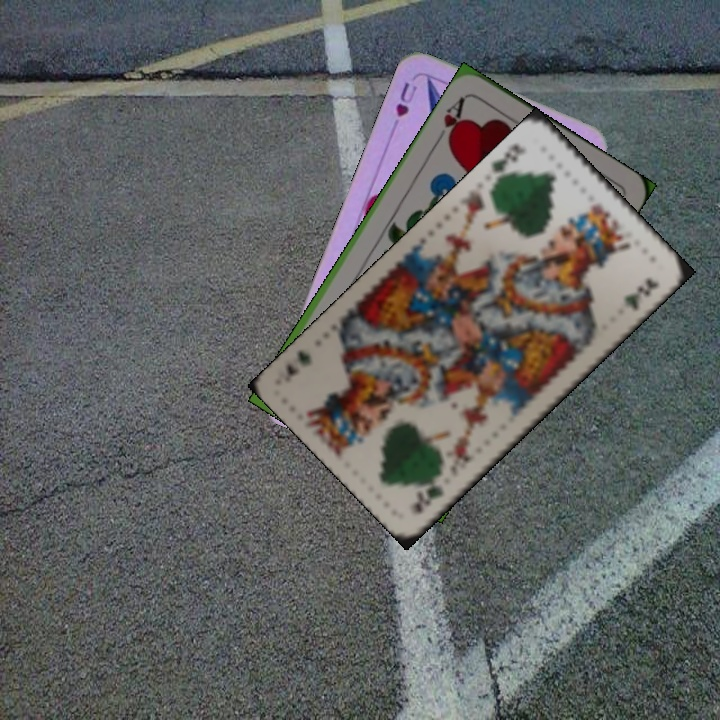GK: (487, 139, 528, 186), (409, 467, 447, 517)
HA: (431, 93, 468, 146)
HU: (391, 78, 421, 120)
